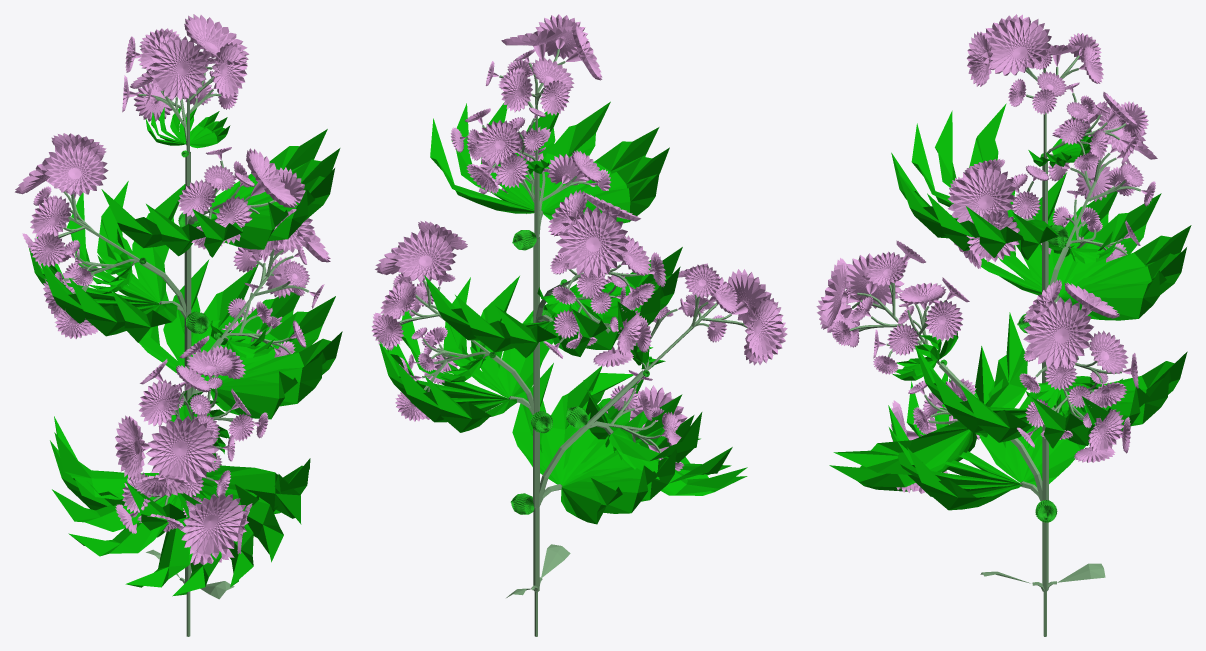
3 renders of one model, left to right at view 1: azimuth 30°, elevation 25°; view 2: azimuth 150°, elevation 25°; view 3: azimuth 270°, elevation 25°, orthographic. The views are drawn at different scales.
Visible parts, largest first — view 1: 1Newplan; view 2: 1Newplan; view 3: 1Newplan.
Boxes of the visible parts, bbox=[...] form: 1Newplan: bbox=[15, 14, 342, 636]; 1Newplan: bbox=[371, 14, 787, 636]; 1Newplan: bbox=[816, 14, 1191, 636].
Bounding box in the file's own units: 10.93 × 20.44 × 11.32.
